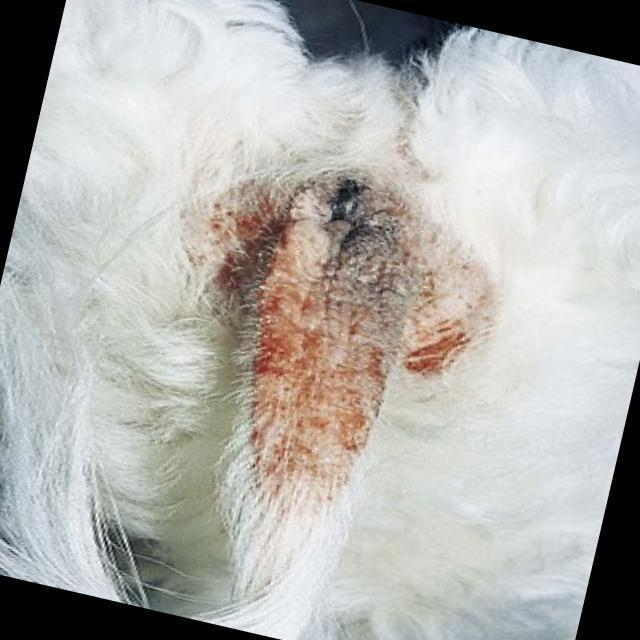fungal infection: (266, 187, 362, 475), (416, 233, 504, 371), (197, 189, 274, 308), (252, 327, 309, 486), (374, 277, 432, 369), (366, 181, 426, 269), (354, 356, 388, 430)
